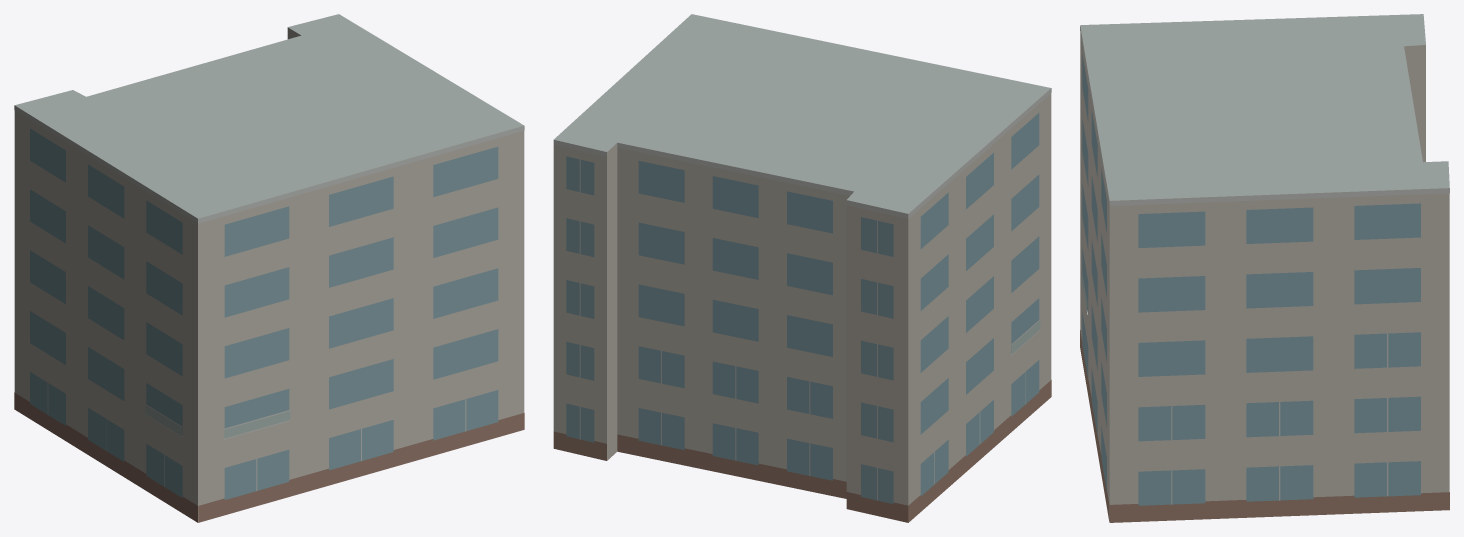
The model's file is survey-upis-32725694.glb.
3 views of the same model, side by side, from view 1: azimuth 30°, elevation 25°; view 2: azimuth 150°, elevation 25°; view 3: azimuth 270°, elevation 25° (orthographic). The views are drawn at different scales.
Visible parts, largest first — view 1: survey-upis-32725694.tmp; view 2: survey-upis-32725694.tmp; view 3: survey-upis-32725694.tmp.
Boxes of the visible parts, x1,y1,x2,y2 form: survey-upis-32725694.tmp: [14, 14, 524, 522]; survey-upis-32725694.tmp: [553, 14, 1051, 522]; survey-upis-32725694.tmp: [1080, 14, 1449, 522].
Bounding box in the file's own units: 18.74 × 15.05 × 15.67.
